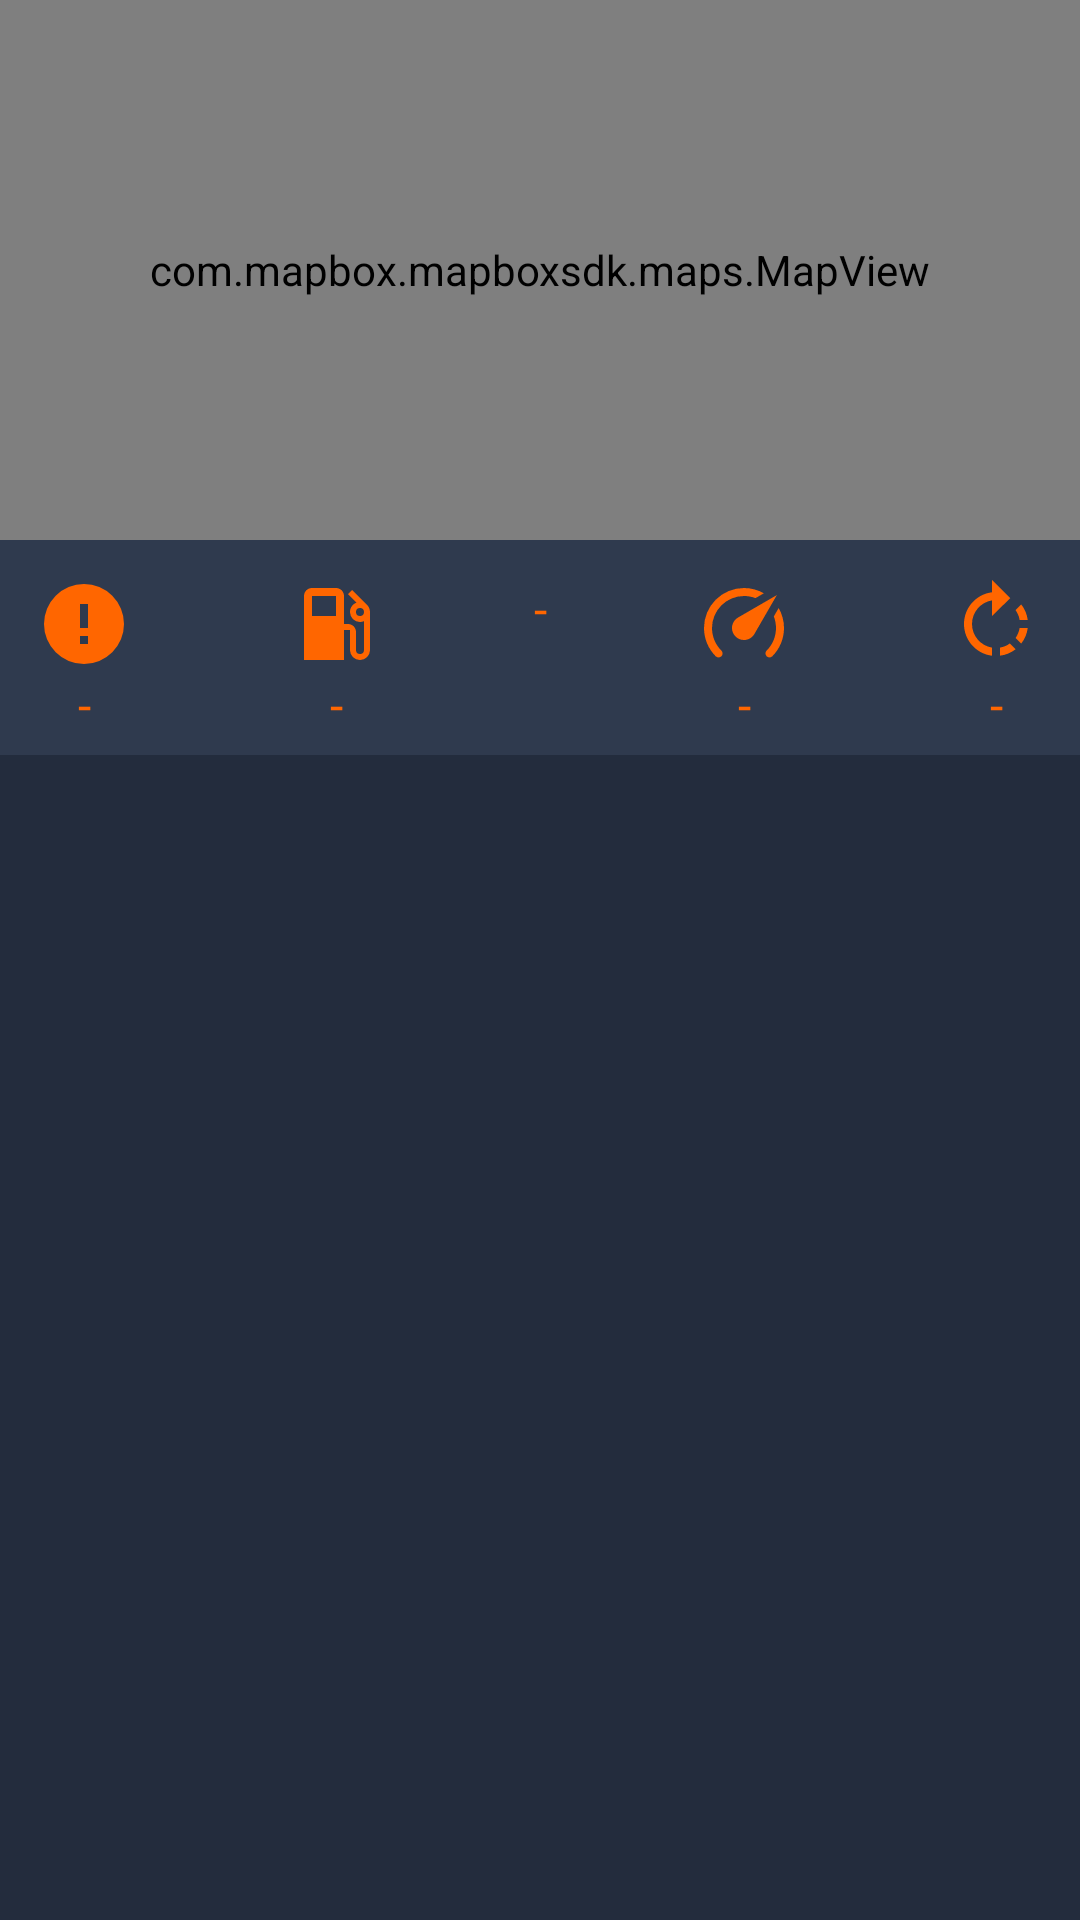

Screen size 1080w x 1920h. Icon name, then its box in pixels as bbox=(x1, y1, x2, y2):
alert: bbox=(44, 584, 124, 664)
fuel: bbox=(304, 588, 370, 660)
rotate: bbox=(964, 580, 1028, 656)
speedometer: bbox=(704, 588, 784, 658)
